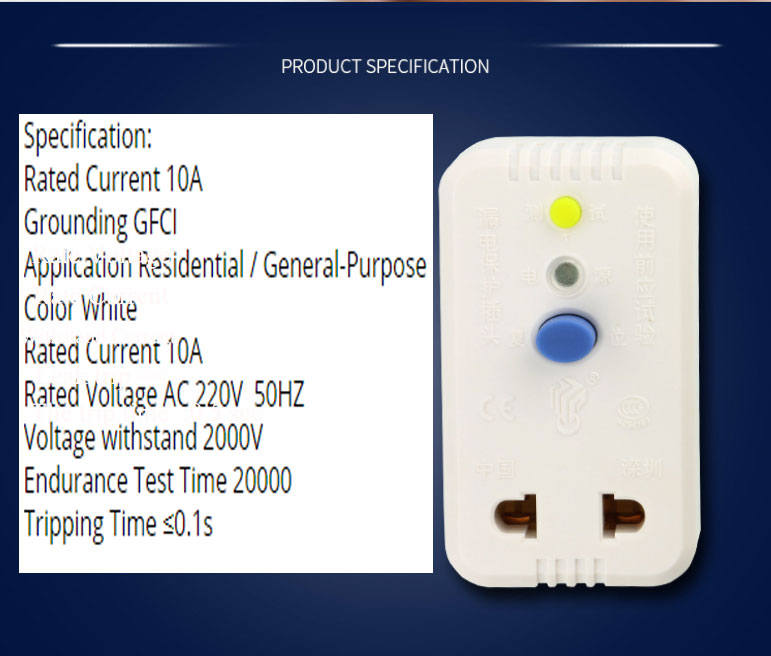Three_eye_plug: (433, 122, 704, 600)
